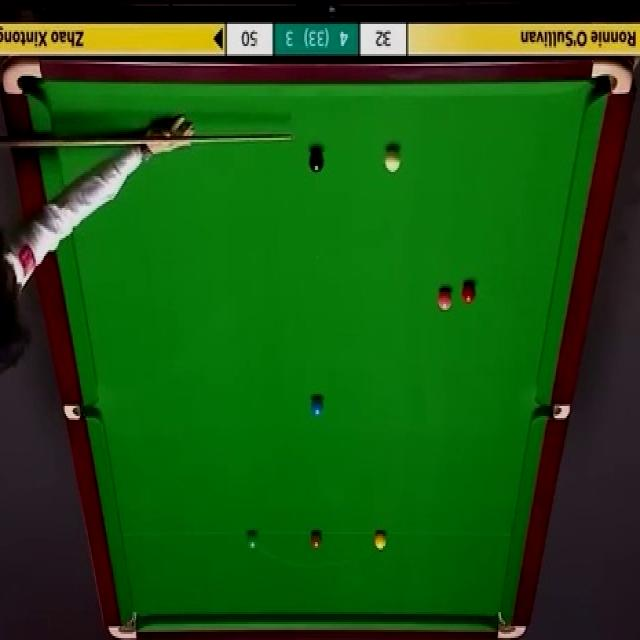pocket: (0, 58, 44, 97), (591, 58, 633, 98), (495, 606, 528, 640), (110, 608, 141, 640), (64, 400, 101, 422), (535, 405, 573, 420)
